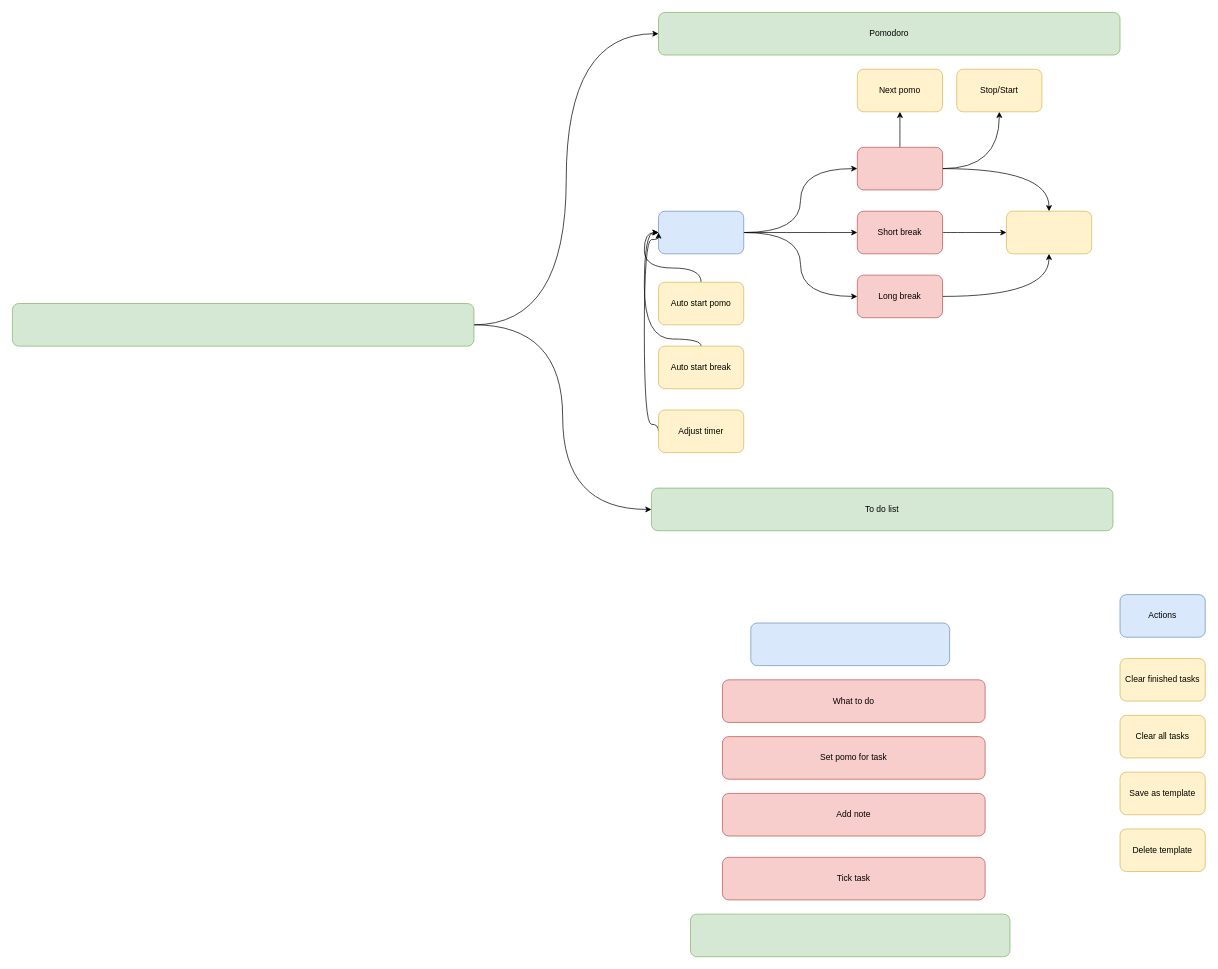
Image size: 1218x969. Some labels were removed from this diagram. The shapes that lost their labels are listed below. From the top down, each one's box as (x1, y1, x2, y2) in pixels, then its label:
(857, 147, 943, 190): Pomo
(658, 211, 744, 254): Timer Setting
(1006, 211, 1092, 254): Alert
(12, 303, 474, 346): Homepage
(750, 622, 950, 666): Add task
(690, 913, 1010, 957): Estimate time
